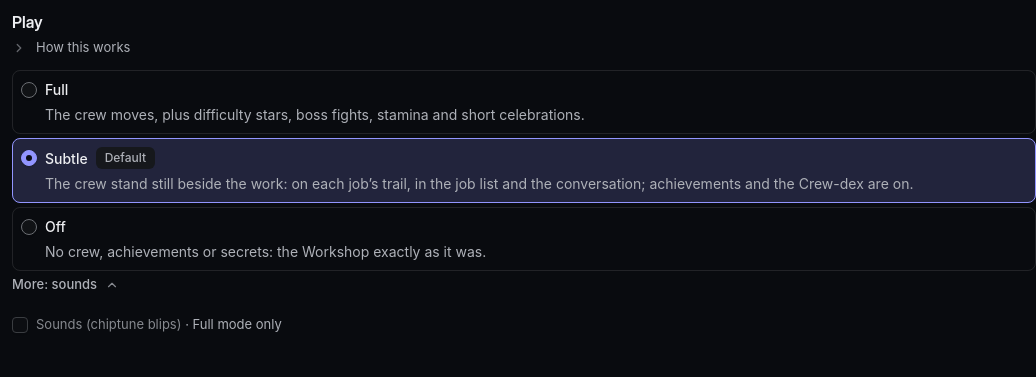
it: Settings → Play › says why when the setting can’t be saved
Click the radio button labelled "Off" at (29, 227), box top-left (21, 219), bottom-right (37, 235)
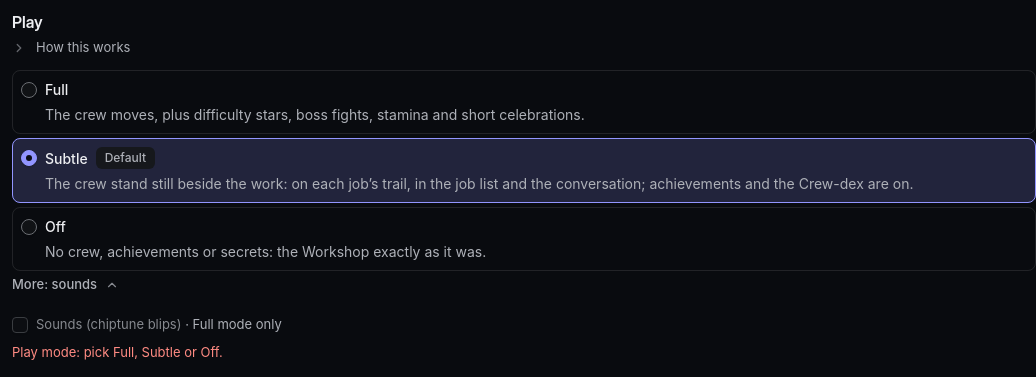
Check: the message reads "Play mode: pick Full, Subtle or Off.", box top-left (12, 344), bottom-right (223, 360)
